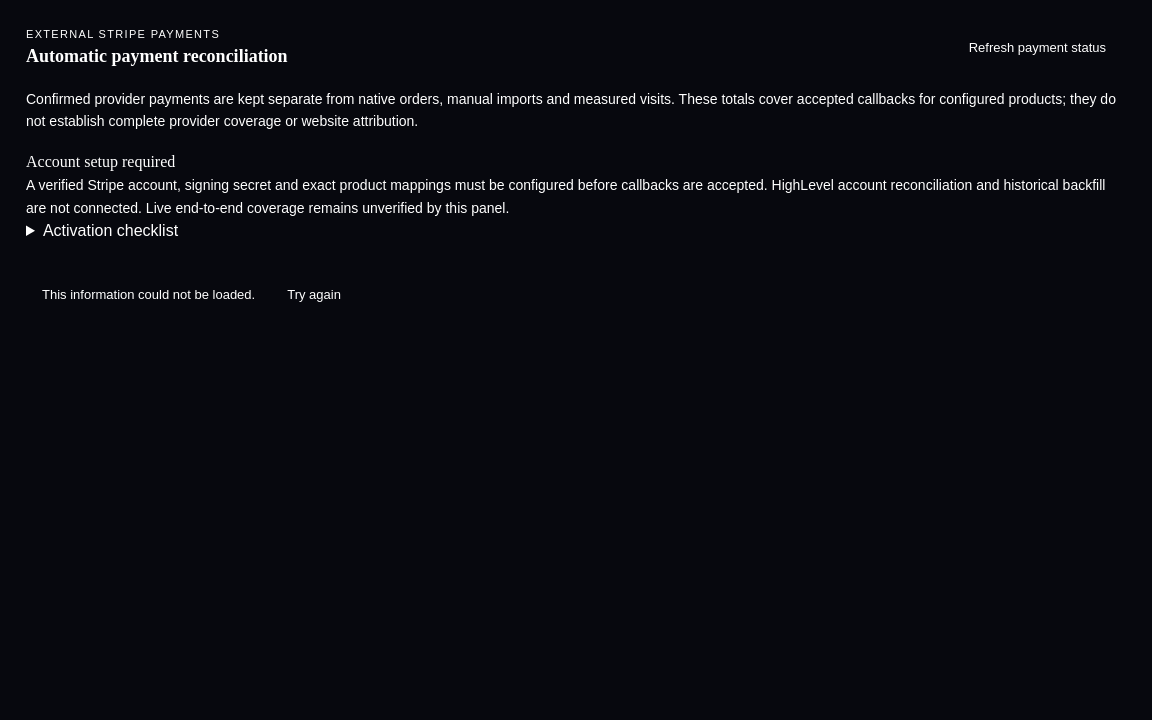
Scenario: external payment setup and reporting › preserves an unavailable report as an error and supports retry
This screenshot has width=1152, height=720.
Expected: the message shows "could not be loaded", x1=42 y1=287 x2=255 y2=302
Expected: the text "No accepted live external payments" is not shown
What coordinates should you click on to do the following:
click the button "Try again"
I would click on:
 (314, 295)
Its box is x1=267 y1=275 x2=361 y2=315.
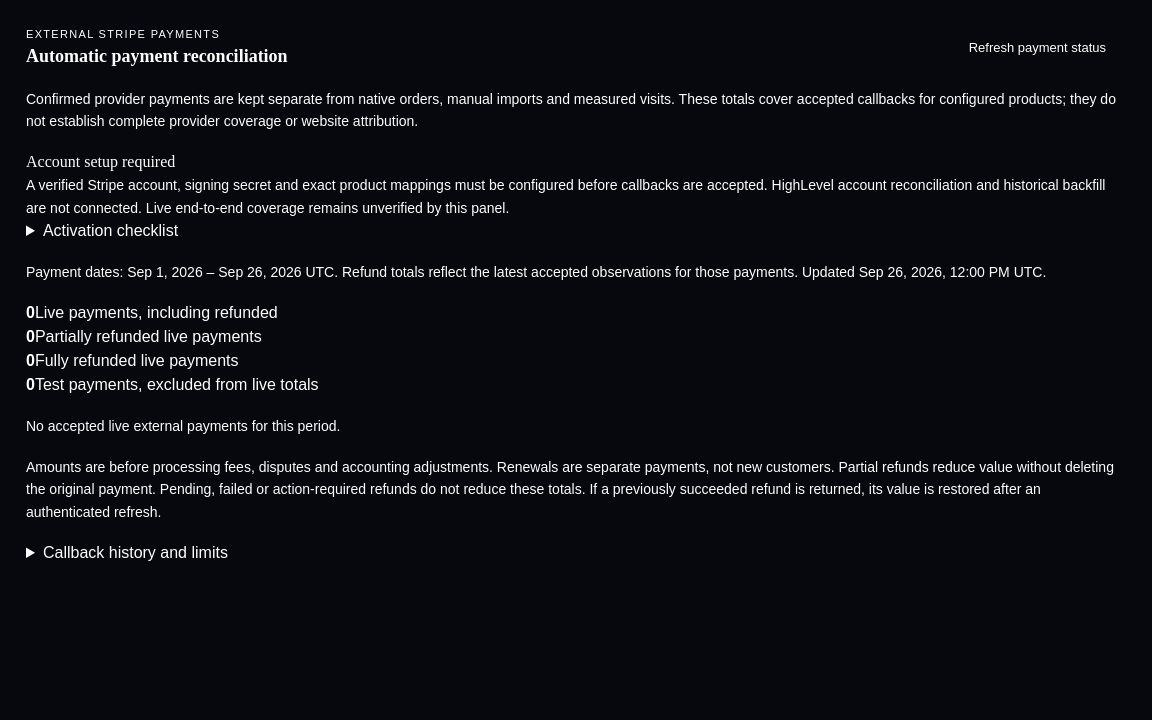
Now the text "No accepted live external payments for this period." is shown, box x1=26 y1=418 x2=340 y2=434
